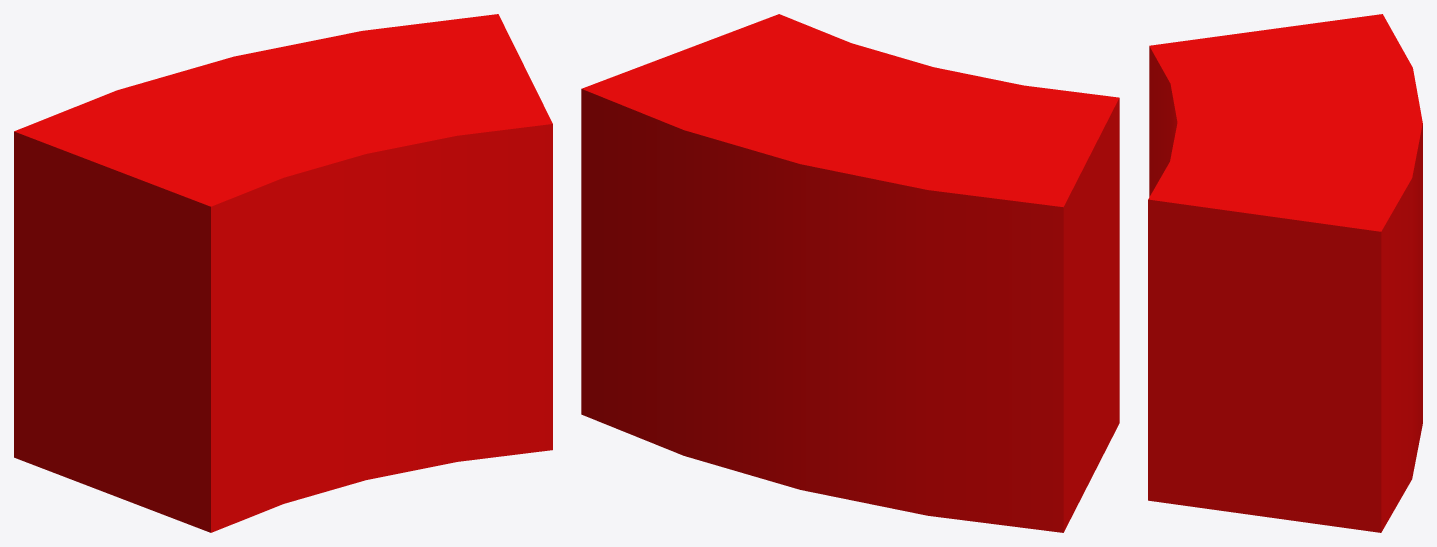
Rendered from BlockPart.model.gltf.
The picture shows the model from 3 angles, left to right: view 1: azimuth 30°, elevation 25°; view 2: azimuth 150°, elevation 25°; view 3: azimuth 270°, elevation 25°; orthographic projection. The views are drawn at different scales.
Parts seen in each view (by area): view 1: polySurface31; view 2: polySurface31; view 3: polySurface31.
Boxes of the visible parts, <box> form: polySurface31: <box>14,14,552,532</box>; polySurface31: <box>581,14,1119,532</box>; polySurface31: <box>1148,14,1422,532</box>.
Bounding box in the file's own units: 6.22 × 4.01 × 3.31.
